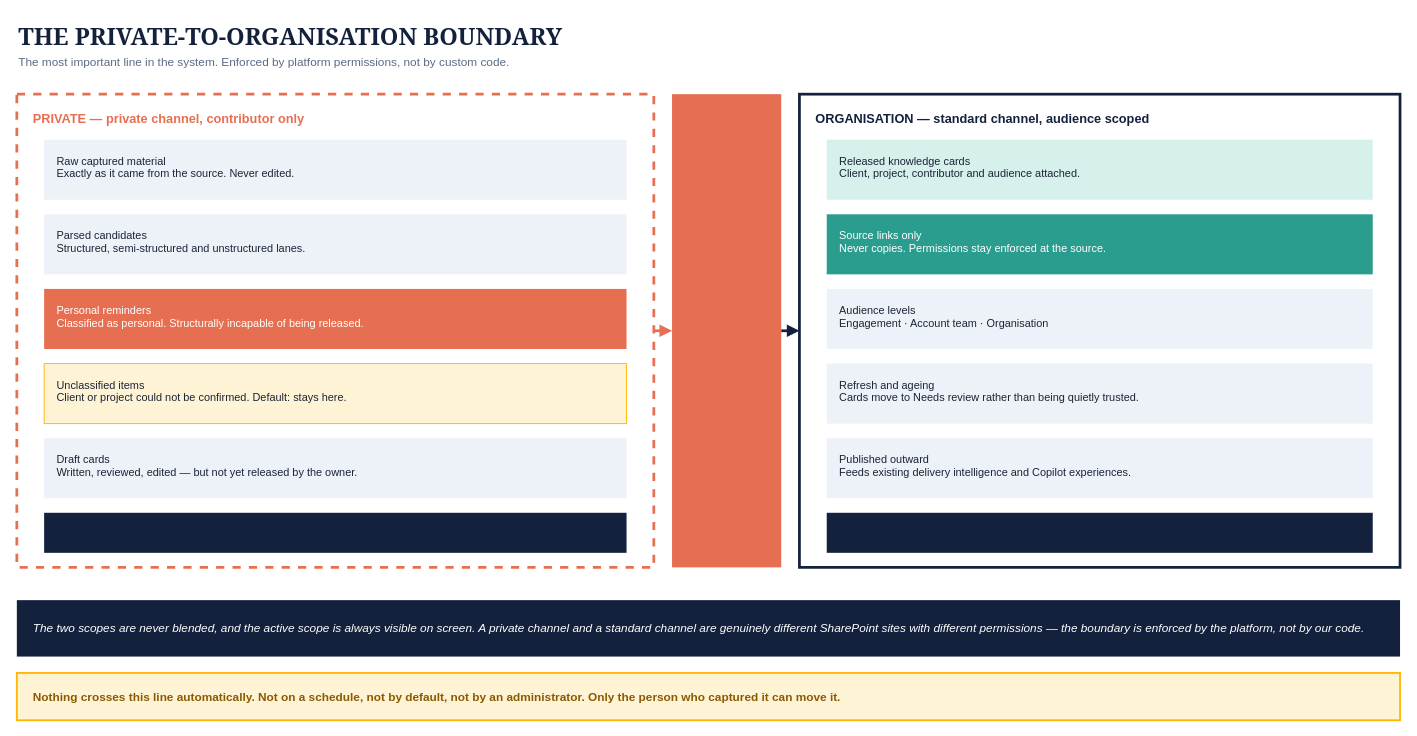
The diagram is 1417 pixels wide and 736 high, and some of its shapes have lost their labels. The shapes that lost their labels are listed below. From the top down, each one's centre as x and y in pixels, then its label:
the point at 726,330: RELEASE GATE The owner decides ▼
the point at 335,532: Ask — scope: MY DATA reads only from this side
the point at 1099,532: Ask — scope: ORGANISATION reads only from this side
